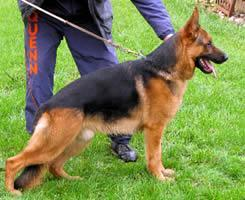German_shepherd: (4, 5, 229, 197)
